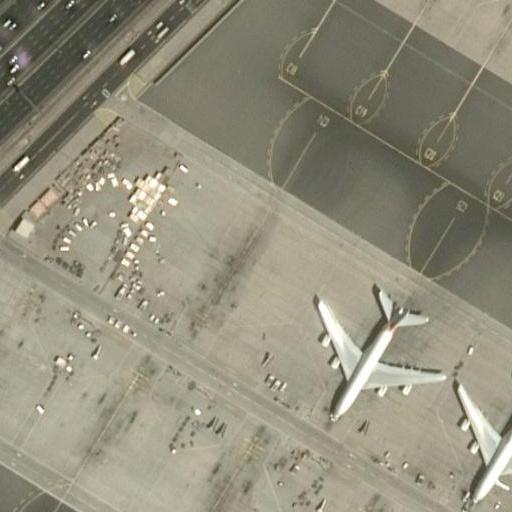Aircraft: (311, 280, 445, 418), (448, 368, 512, 508)
